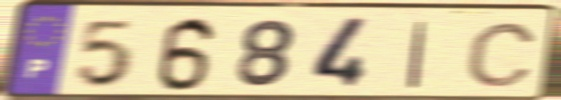4: (306, 14, 376, 94)
5: (72, 18, 142, 89)
6: (156, 14, 221, 93)
8: (234, 17, 297, 90)
C: (463, 20, 541, 90)
I: (403, 18, 431, 91)
